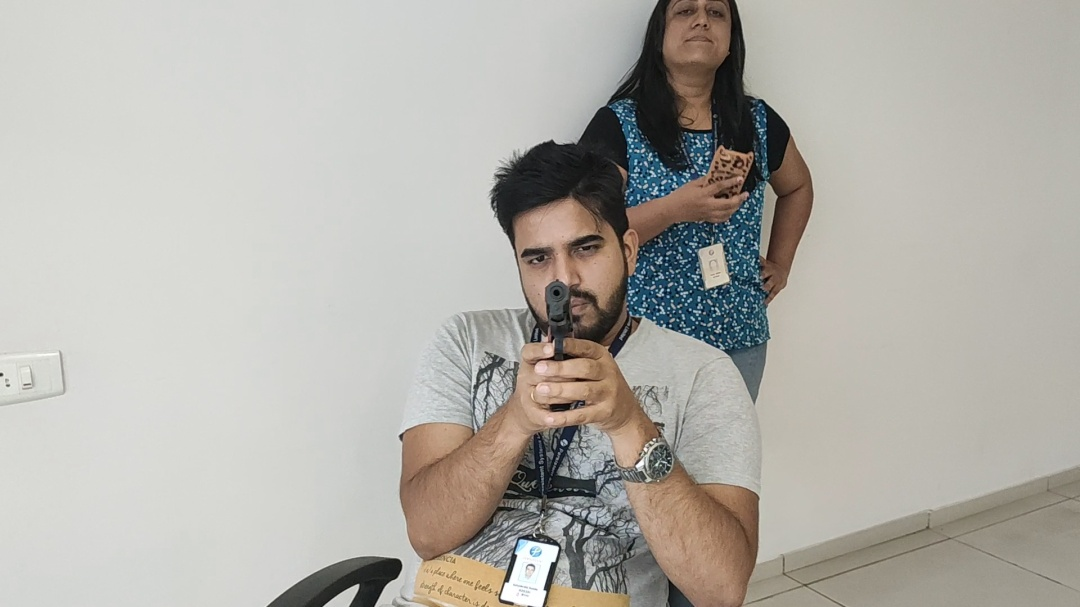gun: (545, 278, 575, 359)
